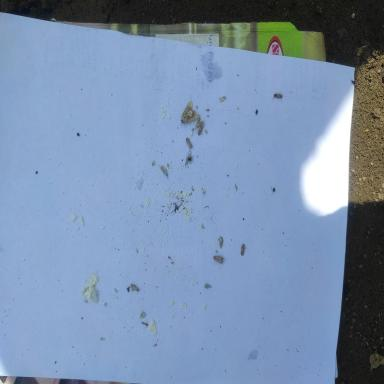pbw: (195, 124, 206, 136), (157, 165, 168, 177), (195, 117, 206, 128), (213, 255, 224, 265), (240, 243, 248, 256), (272, 92, 282, 102), (186, 136, 192, 151), (218, 236, 223, 248), (130, 284, 138, 291)
